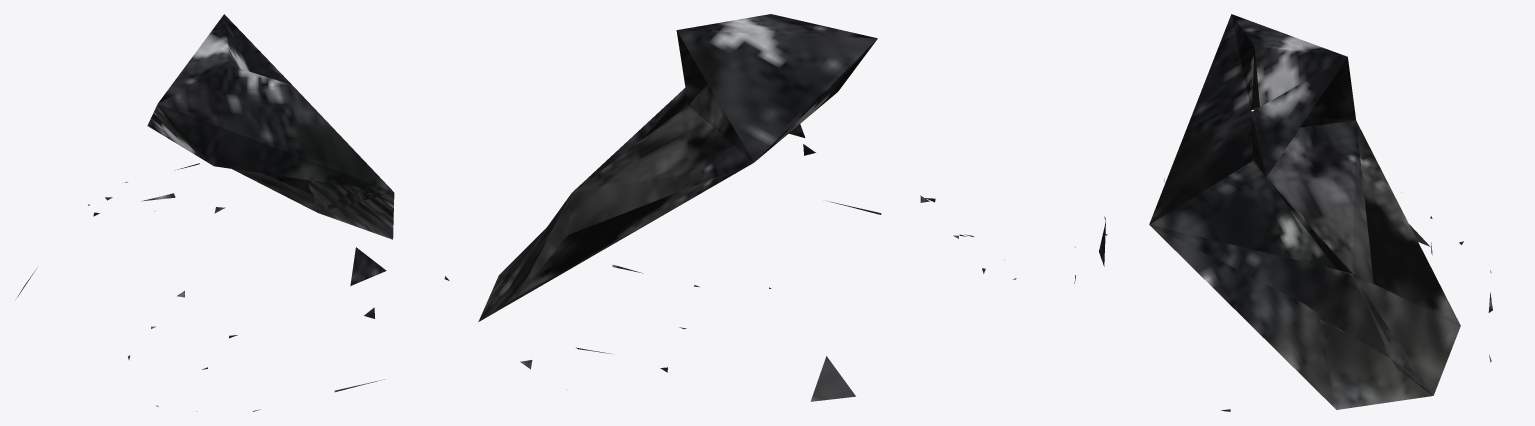
Rendered from alpine_spire_lod2.glb.
3 views of the same model, side by side, from view 1: azimuth 30°, elevation 25°; view 2: azimuth 150°, elevation 25°; view 3: azimuth 270°, elevation 25° (orthographic). The views are drawn at different scales.
Visible parts, largest first — view 1: alpine_spire_lod2; view 2: alpine_spire_lod2; view 3: alpine_spire_lod2.
Part boxes in pixels (x1,y1,x2,y2): alpine_spire_lod2: (16,14,449,411); alpine_spire_lod2: (478,14,1016,401); alpine_spire_lod2: (1074,14,1492,411).
Size of the model in its own units: 0.7817 by 0.566 by 0.8892.
1 material, 1 textured.
